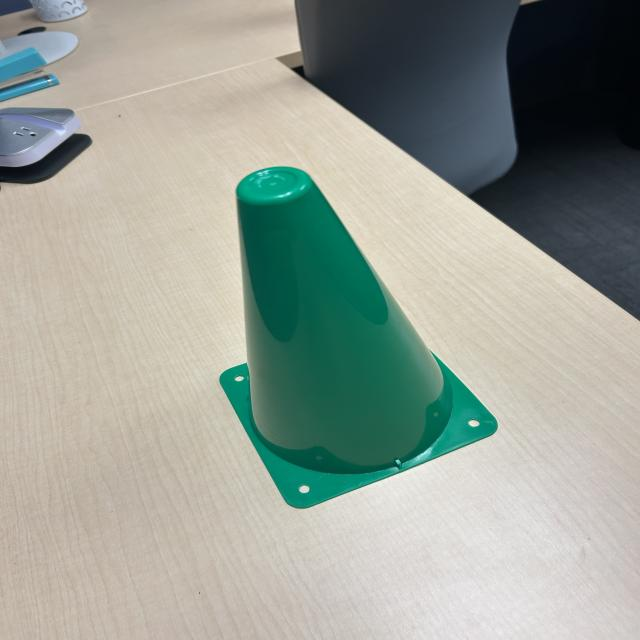green cone: (216, 159, 503, 516)
